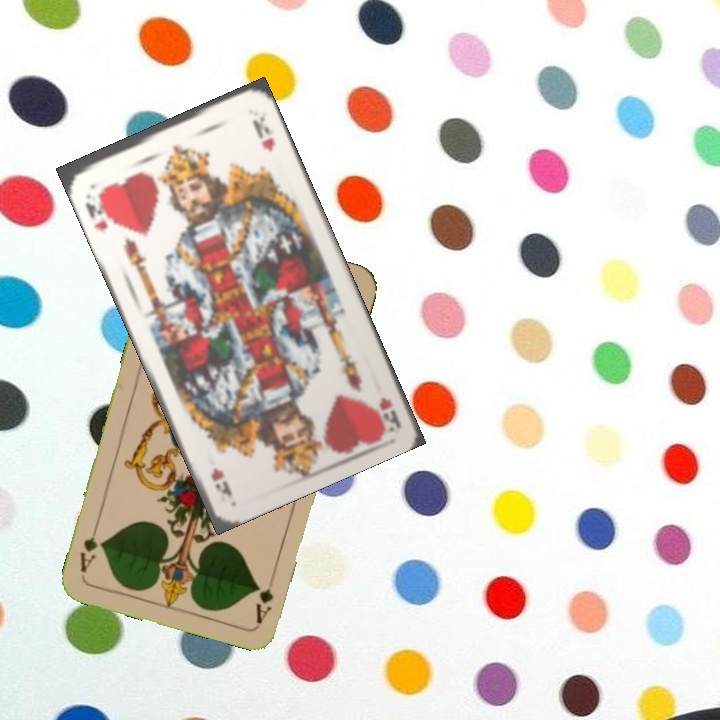GA: (251, 584, 276, 626)
HK: (81, 188, 117, 234), (372, 392, 403, 432)
